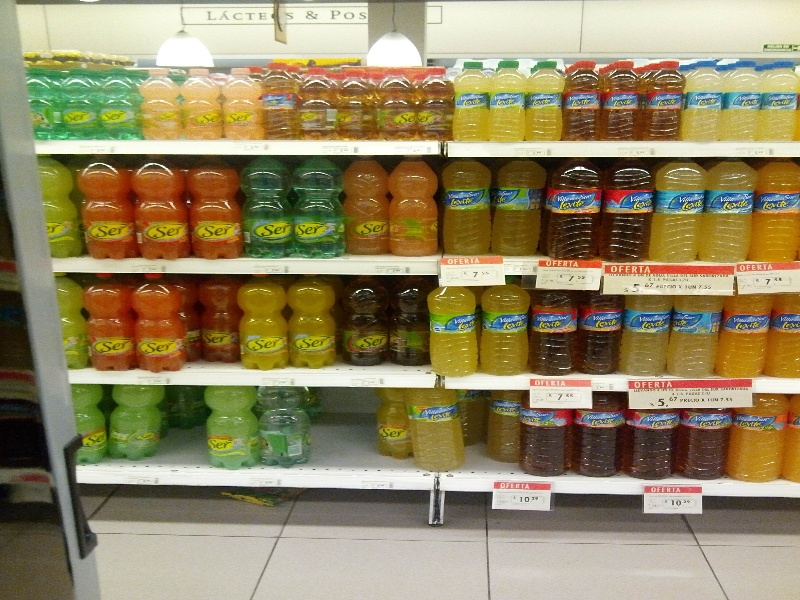lemonade: (133, 154, 193, 259), (77, 153, 135, 261), (130, 274, 193, 368), (291, 157, 349, 257), (79, 274, 137, 372), (442, 155, 497, 258), (546, 157, 602, 258), (386, 156, 443, 255), (649, 158, 702, 263), (601, 159, 653, 263), (242, 158, 296, 258), (748, 155, 798, 259), (705, 159, 756, 258), (427, 288, 483, 376), (288, 274, 338, 369), (240, 276, 291, 369), (525, 61, 569, 145), (449, 58, 492, 142), (561, 59, 603, 143), (601, 59, 644, 141), (646, 61, 688, 142), (488, 59, 528, 143)
